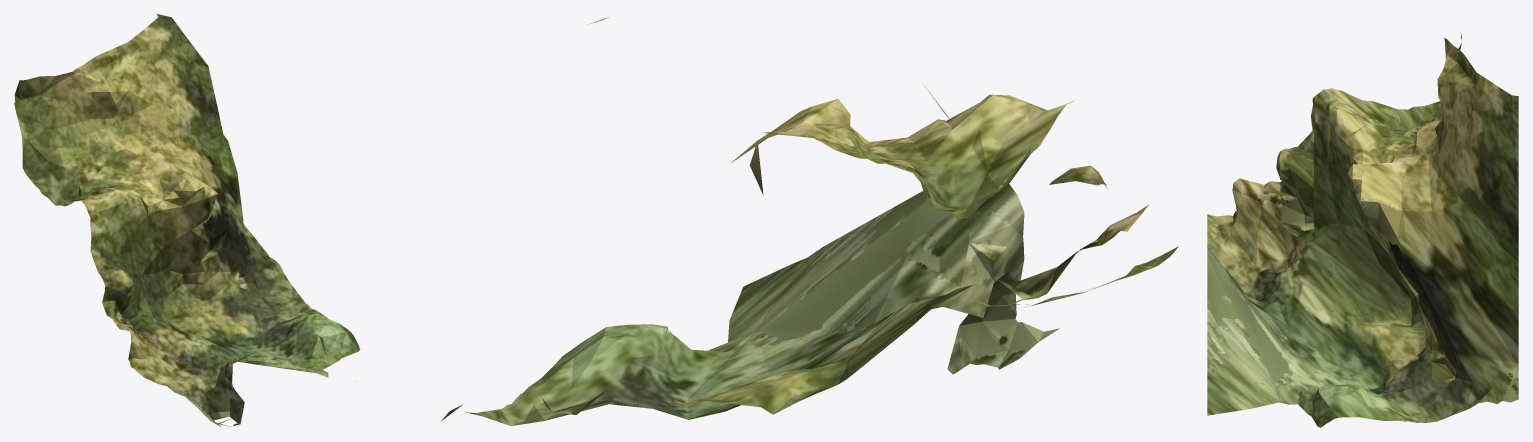
3 views of the same model, side by side, from view 1: azimuth 30°, elevation 25°; view 2: azimuth 150°, elevation 25°; view 3: azimuth 270°, elevation 25° (orthographic). The views are drawn at different scales.
Size of the model in its own units: 5.9 by 5.9 by 5.9.
Materials: 4 (4 with a texture image).
